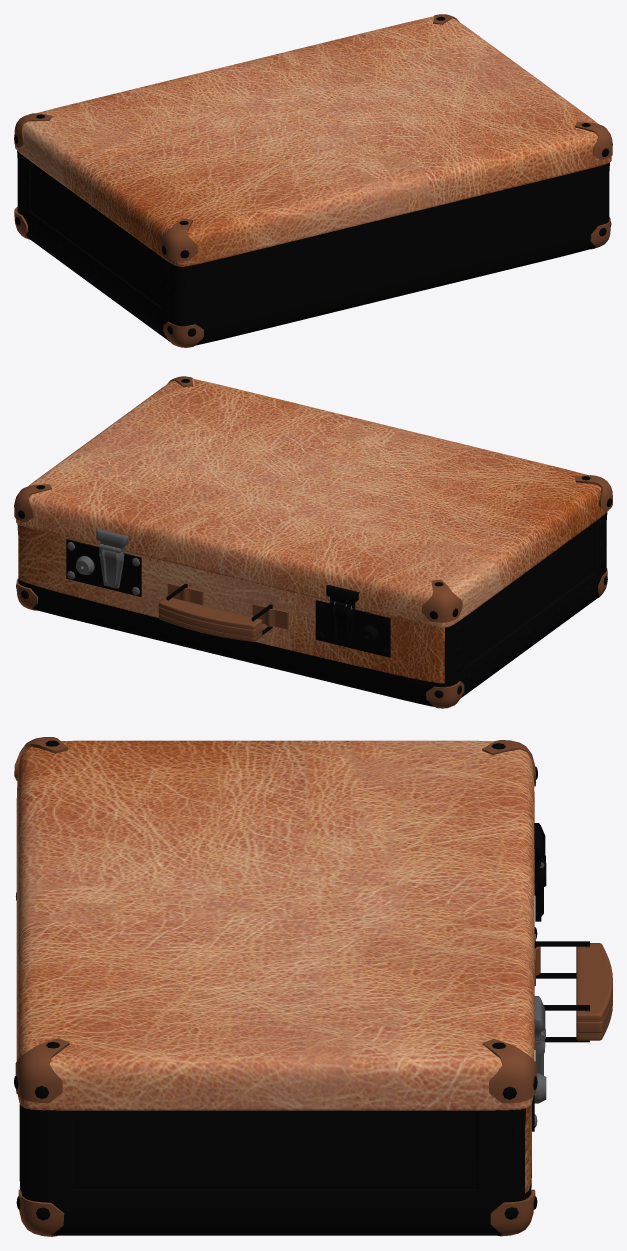
File: Koffer1 Unity.fbx
3 renders of one model, top to bottom at view 1: azimuth 30°, elevation 25°; view 2: azimuth 150°, elevation 25°; view 3: azimuth 270°, elevation 25°, orthographic. The views are drawn at different scales.
Parts seen in each view (by area): view 1: polySurface37, polySurface80, polySurface117, polySurface121, polySurface115; view 2: polySurface37, polySurface80, polySurface123, polySurface1, polySurface41, polySurface20, polySurface36, polySurface120, polySurface68, polySurface16, polySurface117, polySurface18; view 3: polySurface37, polySurface80, polySurface1, polySurface115, polySurface68, polySurface118, polySurface119, polySurface20, polySurface41.
Part boxes in pixels (x1=…): polySurface37: x1=15, y1=16, x2=611, y2=266; polySurface80: x1=17, y1=150, x2=609, y2=345; polySurface117: x1=159, y1=218, x2=197, y2=261; polySurface121: x1=163, y1=321, x2=203, y2=347; polySurface115: x1=575, y1=122, x2=612, y2=160; polySurface37: x1=15, y1=378, x2=608, y2=627; polySurface80: x1=17, y1=512, x2=607, y2=706; polySurface123: x1=66, y1=520, x2=602, y2=681; polySurface1: x1=158, y1=596, x2=262, y2=641; polySurface41: x1=316, y1=585, x2=388, y2=655; polySurface20: x1=67, y1=528, x2=139, y2=595; polySurface36: x1=422, y1=579, x2=462, y2=622; polySurface120: x1=426, y1=681, x2=464, y2=708; polySurface68: x1=14, y1=484, x2=51, y2=522; polySurface16: x1=252, y1=603, x2=288, y2=629; polySurface117: x1=575, y1=475, x2=612, y2=510; polySurface18: x1=167, y1=582, x2=203, y2=605; polySurface37: x1=16, y1=740, x2=534, y2=1110; polySurface80: x1=19, y1=1104, x2=531, y2=1235; polySurface1: x1=576, y1=943, x2=612, y2=1040; polySurface115: x1=14, y1=1038, x2=69, y2=1102; polySurface68: x1=482, y1=1038, x2=537, y2=1103; polySurface118: x1=16, y1=1189, x2=64, y2=1236; polySurface119: x1=490, y1=1189, x2=537, y2=1236; polySurface20: x1=534, y1=996, x2=546, y2=1127; polySurface41: x1=534, y1=823, x2=546, y2=938.
Bounding box in the file's own units: 81.06 × 21.46 × 61.25.
Materials: 11 (2 with a texture image).
